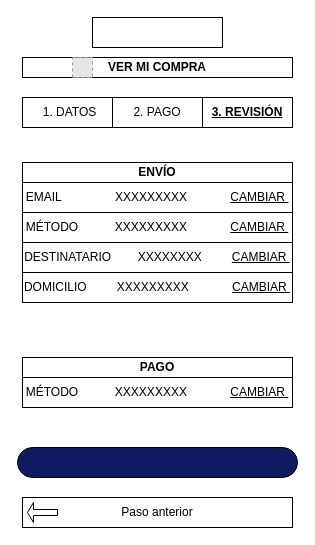
Some shapes in this 315 by 545 pixel diagram are drawn without their labels. Grey dashed boxes stand in for pictures. Here are the shapes that lost their labels. From the top down, the centre of each, then its label:
point 157,32: NOMBRE DE TIENDA
point 157,462: Procedes al pago
